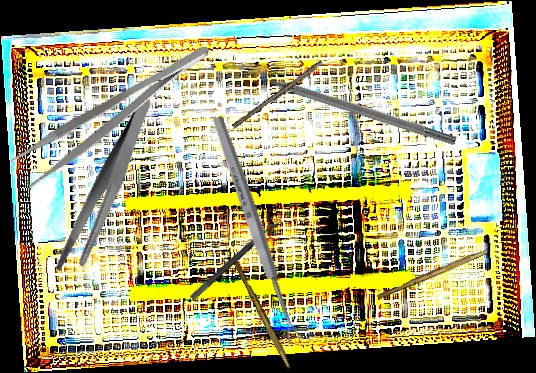Dressing Forceps: (7, 39, 224, 192), (20, 93, 194, 281)
Fixation Ring: (189, 220, 284, 308)
Hook Surgical: (246, 66, 458, 147)
Scalpel Handle: (230, 258, 295, 370), (231, 58, 325, 132), (376, 246, 488, 302)
Surgical Spoon: (209, 114, 303, 346)
